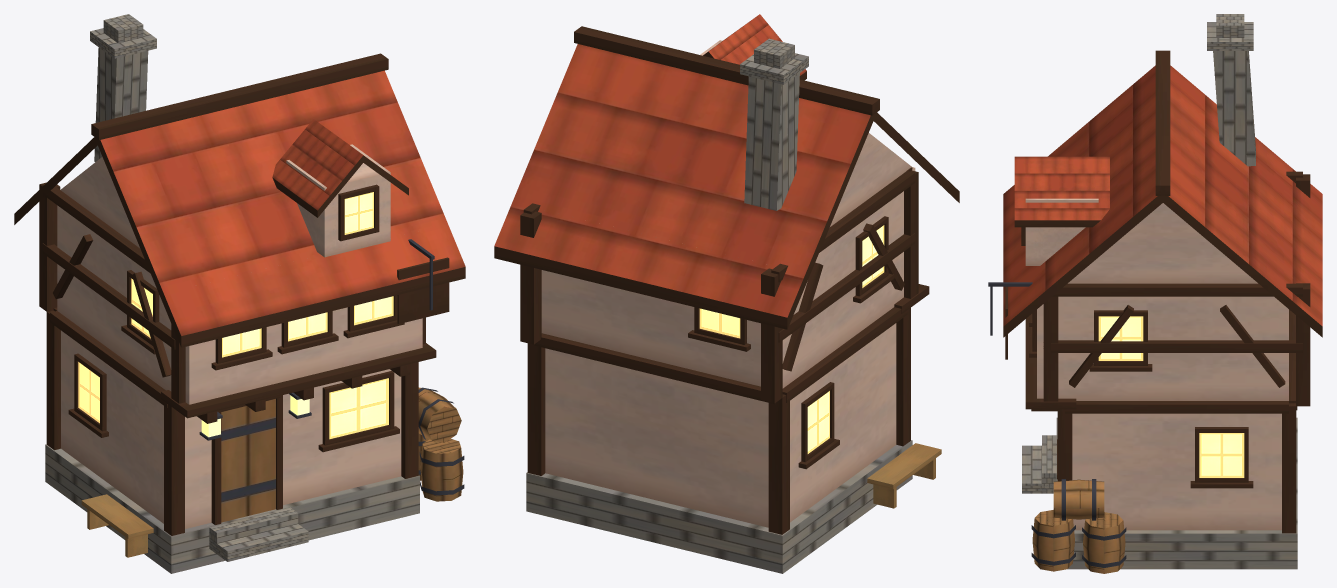
File: tavern.glb
The picture shows the model from 3 angles, left to right: view 1: azimuth 30°, elevation 25°; view 2: azimuth 150°, elevation 25°; view 3: azimuth 270°, elevation 25°; orthographic projection. The views are drawn at different scales.
Visible parts, largest first — view 1: tavern; view 2: tavern; view 3: tavern.
Boxes of the visible parts, x1,y1,x2,y2 form: tavern: [14, 14, 465, 573]; tavern: [494, 14, 959, 573]; tavern: [988, 14, 1322, 573].
Bounding box in the file's own units: 6.5 × 8.93 × 5.97.
4 materials, 4 textured.
